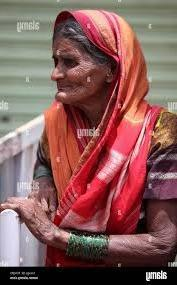Human: (19, 0, 177, 277)
